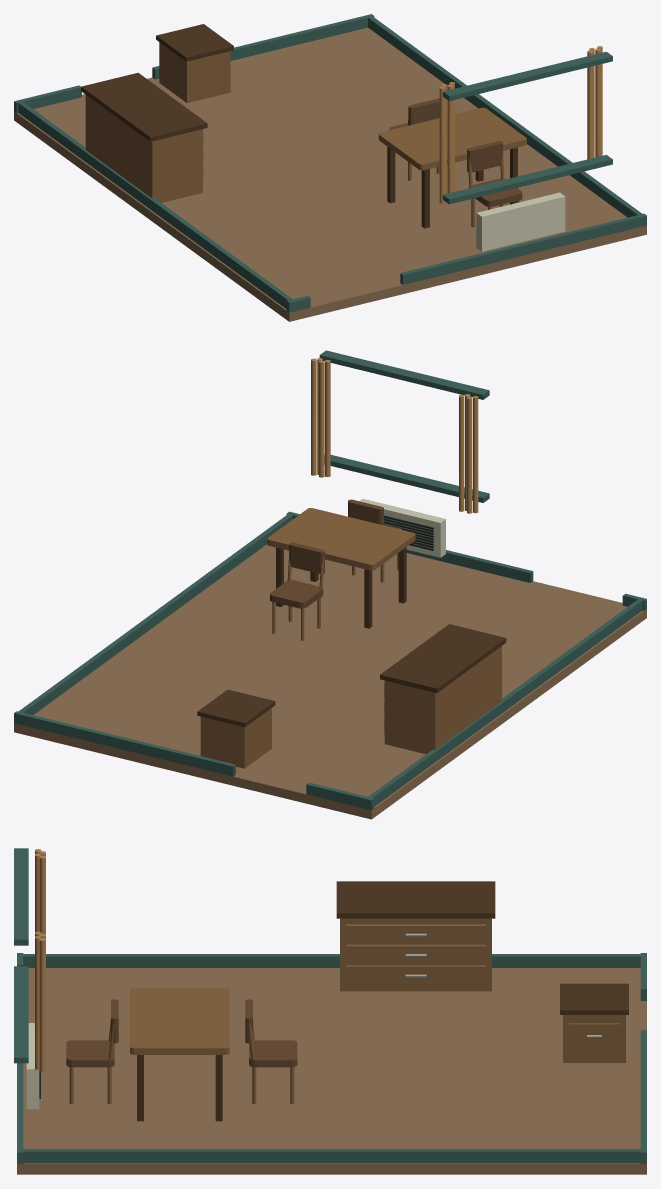
File: SM_Town_Motel_Room6Interior_LOD1.fbx
3 views of the same model, one above another, from view 1: azimuth 30°, elevation 25°; view 2: azimuth 150°, elevation 25°; view 3: azimuth 270°, elevation 25° (orthographic). The views are drawn at different scales.
Parts seen in each view (by area): view 1: SM_Town_Motel_Room6Interior_LOD1; view 2: SM_Town_Motel_Room6Interior_LOD1; view 3: SM_Town_Motel_Room6Interior_LOD1.
Part boxes in pixels (bbox=[...]): SM_Town_Motel_Room6Interior_LOD1: bbox=[14, 14, 646, 321]; SM_Town_Motel_Room6Interior_LOD1: bbox=[14, 350, 646, 819]; SM_Town_Motel_Room6Interior_LOD1: bbox=[14, 848, 646, 1174].
Bounding box in the file's own units: 4.5 × 6.03 × 2.26.
